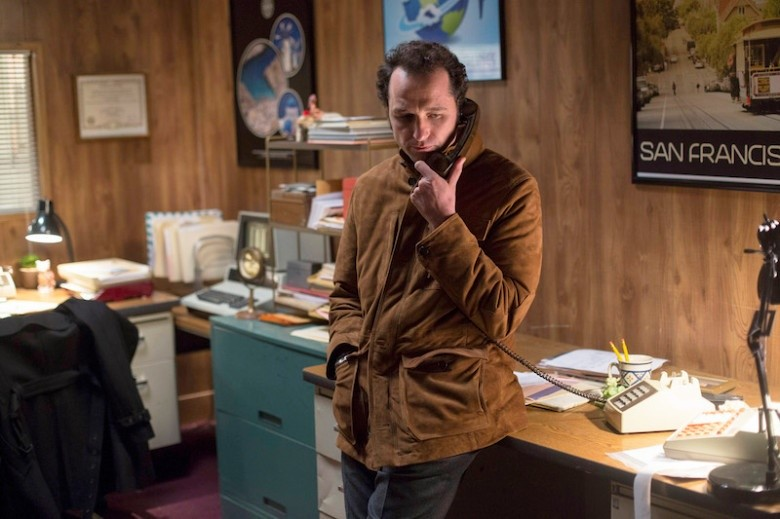face_no_mask: (376, 42, 467, 164)
